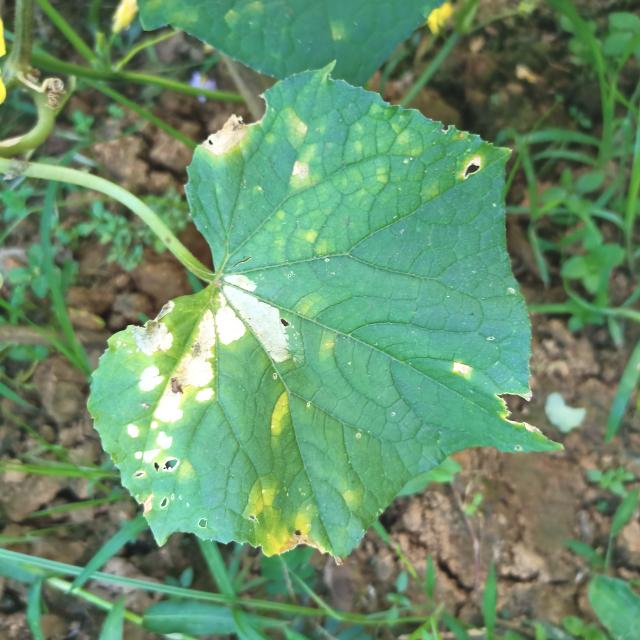disease_cucumber: (121, 265, 300, 498), (234, 467, 324, 560), (276, 109, 342, 202), (257, 381, 305, 449)
